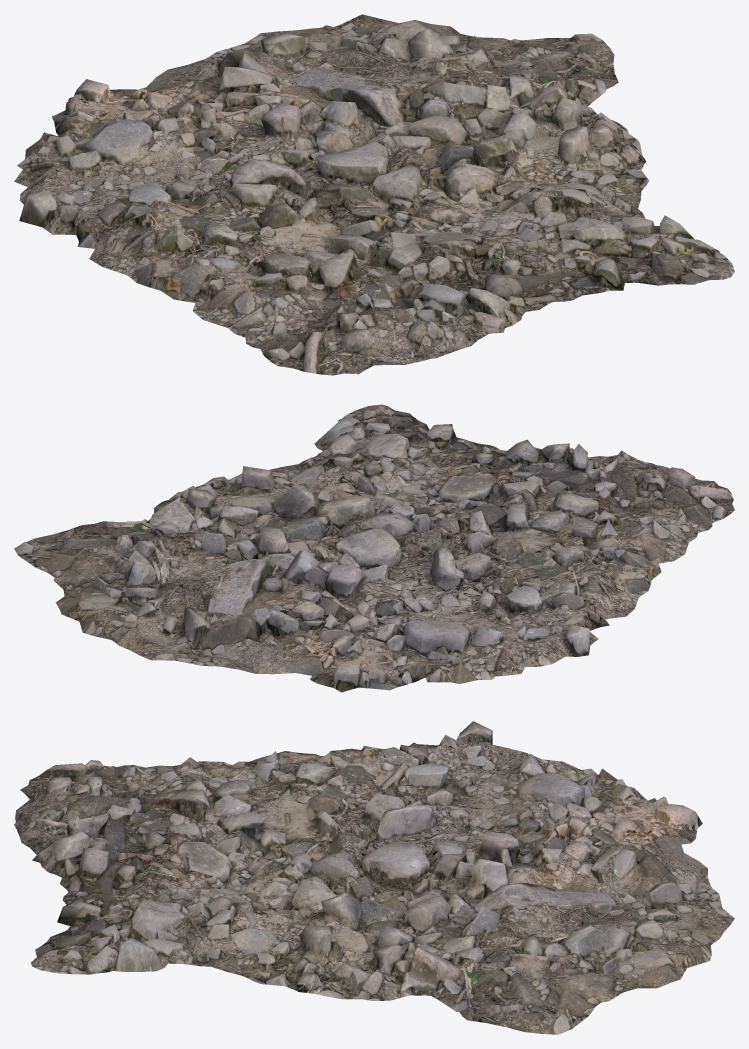
File: sm_GroundRocks_01_01.fbx
The picture shows the model from 3 angles, top to bottom: view 1: azimuth 30°, elevation 25°; view 2: azimuth 150°, elevation 25°; view 3: azimuth 270°, elevation 25°; orthographic projection. The views are drawn at different scales.
Visible parts, largest first — view 1: sm_GroundRocks_01_01_LOD0; view 2: sm_GroundRocks_01_01_LOD0; view 3: sm_GroundRocks_01_01_LOD0.
Boxes of the visible parts, x1,y1,x2,y2 form: sm_GroundRocks_01_01_LOD0: (14,14,734,375); sm_GroundRocks_01_01_LOD0: (14,404,734,692); sm_GroundRocks_01_01_LOD0: (14,721,734,1034).
Bounding box in the file's own units: 193 × 202 × 12.77.
